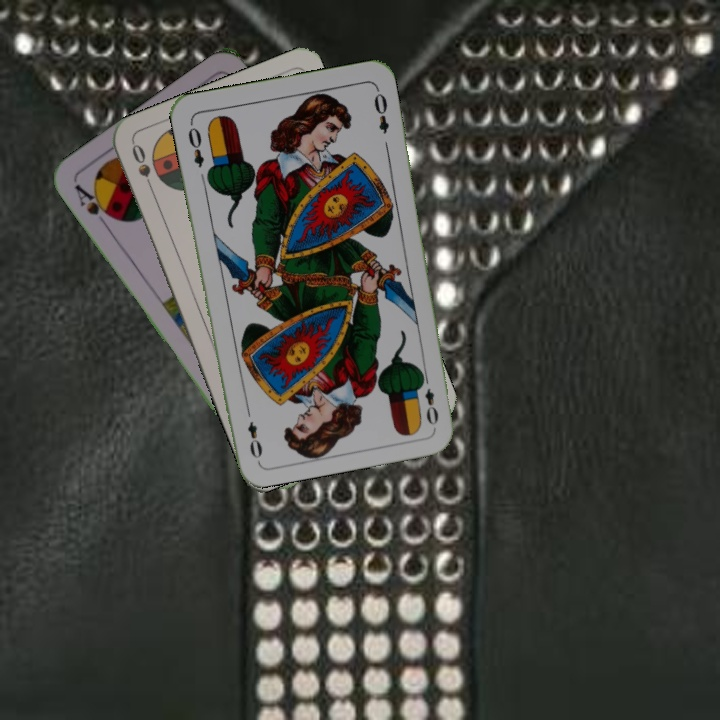EO: (416, 370, 441, 428), (184, 118, 207, 170)
SA: (70, 180, 118, 231)
SO: (127, 139, 158, 197)
